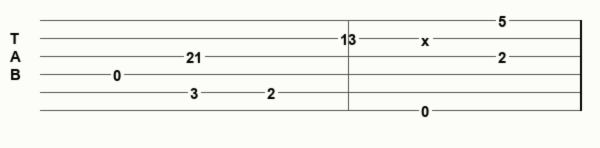0: (113, 67, 125, 82), (421, 103, 433, 118)
13: (340, 31, 360, 46)
2: (267, 85, 279, 100), (498, 49, 510, 64)
21: (186, 49, 206, 64)
3: (190, 85, 202, 100)
5: (498, 13, 510, 28)
x: (421, 32, 434, 44)
